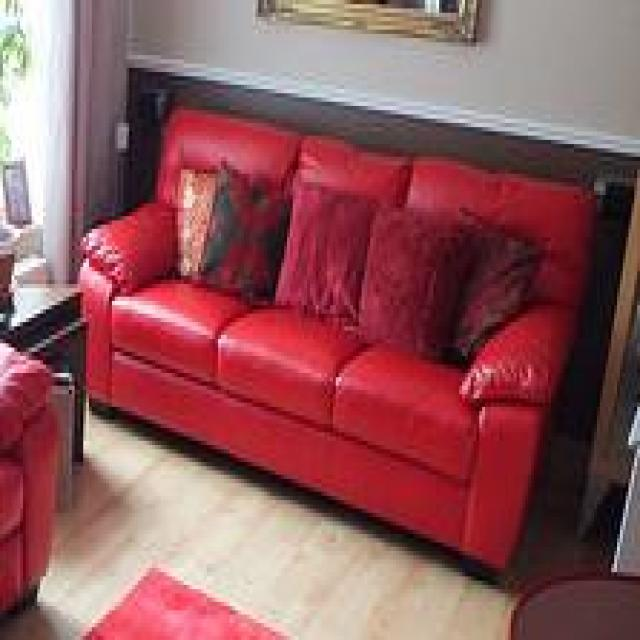sofa: (75, 98, 592, 571)
